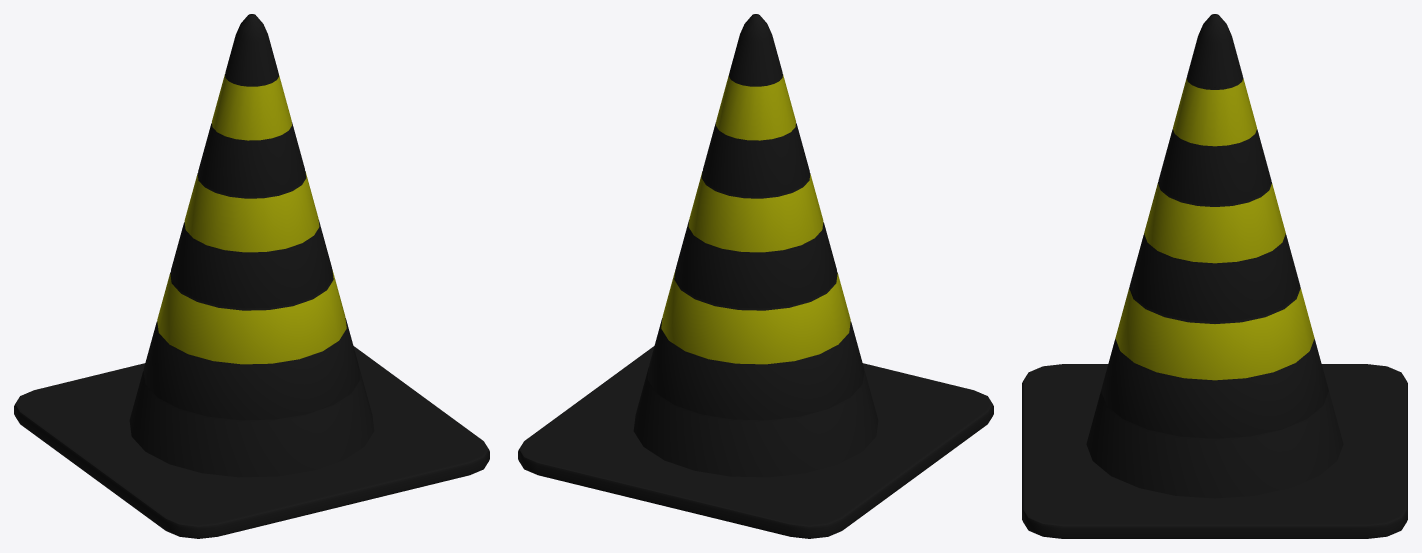
File: Labacon.fbx
The picture shows the model from 3 angles, left to right: view 1: azimuth 30°, elevation 25°; view 2: azimuth 150°, elevation 25°; view 3: azimuth 270°, elevation 25°; orthographic projection. The views are drawn at different scales.
Parts seen in each view (by area): view 1: Labacon1; view 2: Labacon1; view 3: Labacon1.
Boxes of the visible parts, box(x1,y1,x2,y2) form: Labacon1: box(14, 14, 489, 538); Labacon1: box(518, 14, 993, 538); Labacon1: box(1022, 14, 1407, 538).
Size of the model in its own units: 0.0154 by 0.0196 by 0.0154.
